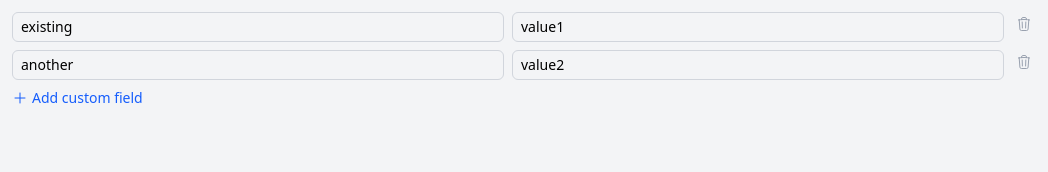
it: MetadataCustomFields › duplicate key validation shows error
Try to change 'another' to 'existing' (duplicate)
Replace the text in the 3rd field showing "another" with "existing" at (258,65), box [12,50,504,80]
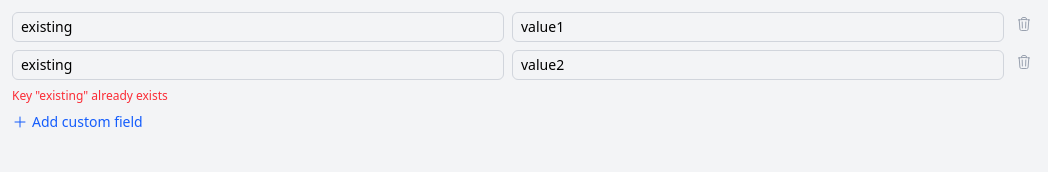
Result: the text "Key \"existing\" already exists" is shown at [12,87,168,104]
